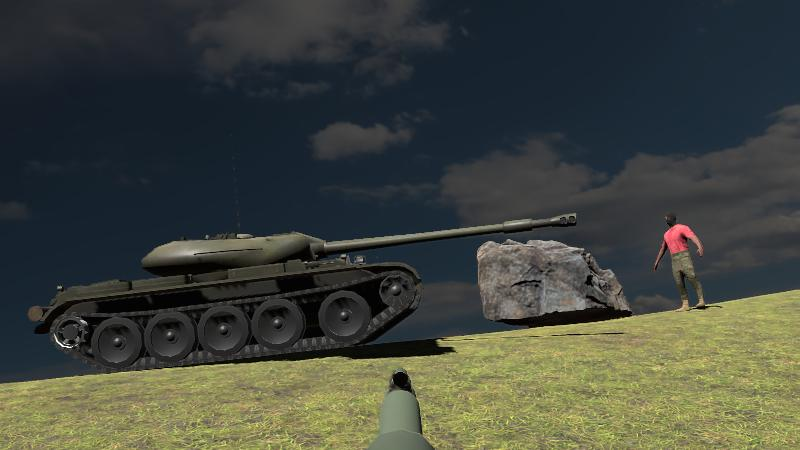Human: (654, 211, 705, 313)
Tank: (28, 216, 582, 376)
